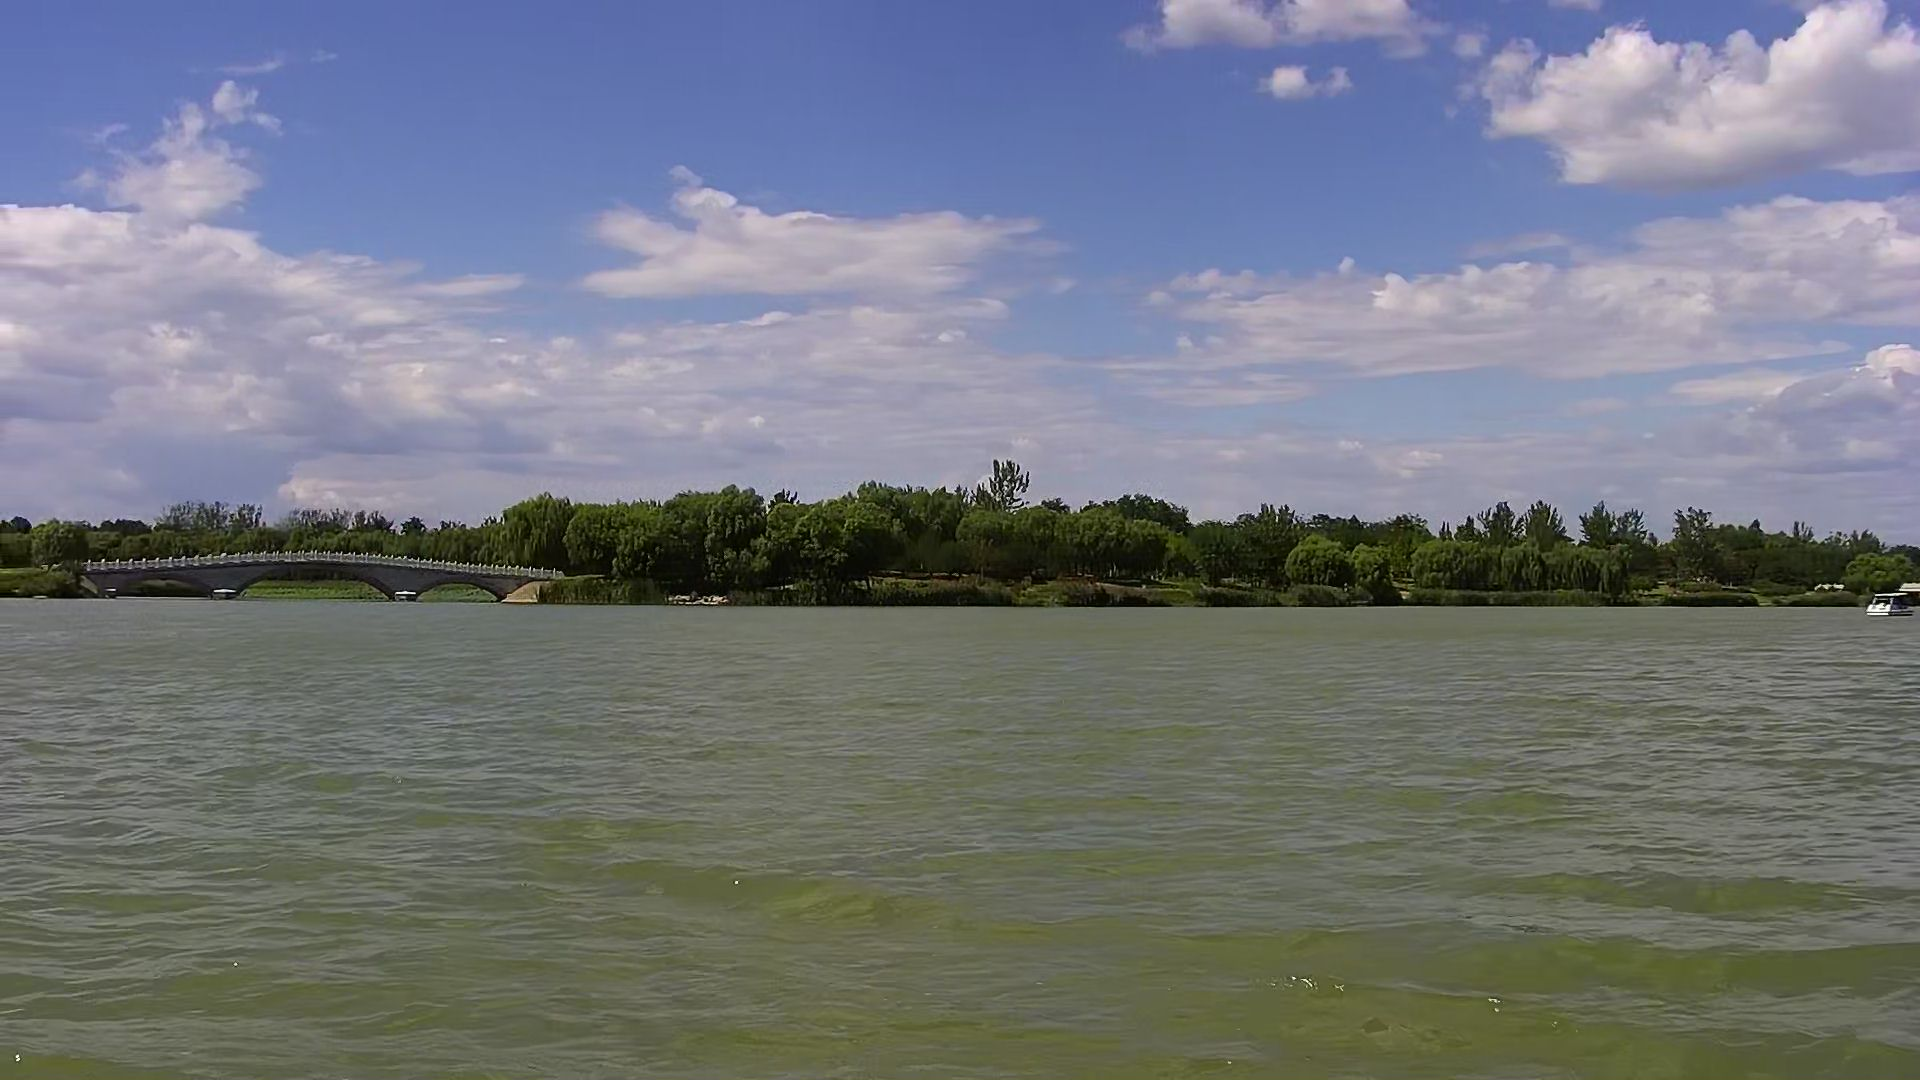boat: (1851, 582, 1920, 625)
bridge: (84, 554, 576, 608)
